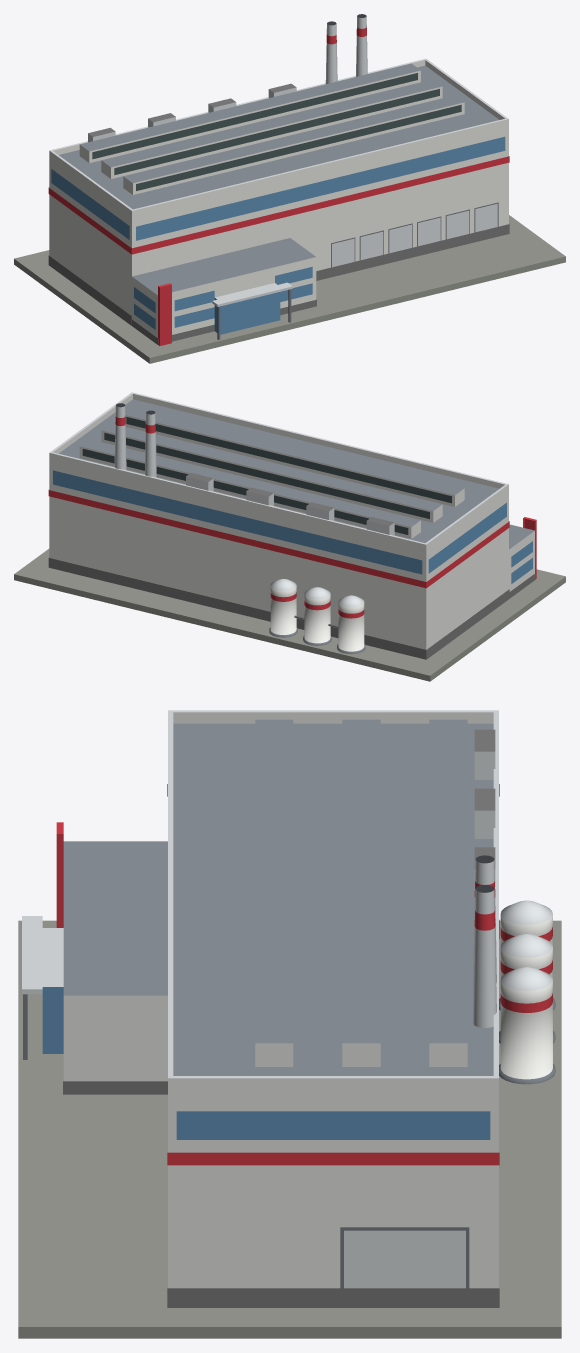
Rendered from mashup-main-top-prebuilt.fbx.
3 views of the same model, one above another, from view 1: azimuth 30°, elevation 25°; view 2: azimuth 150°, elevation 25°; view 3: azimuth 270°, elevation 25° (orthographic). The views are drawn at different scales.
Parts seen in each view (by area): view 1: a1029/0/mashup-main-top-prebuilt; view 2: a1029/0/mashup-main-top-prebuilt; view 3: a1029/0/mashup-main-top-prebuilt.
Part boxes in pixels (x1=…): a1029/0/mashup-main-top-prebuilt: x1=14, y1=14, x2=565, y2=363; a1029/0/mashup-main-top-prebuilt: x1=14, y1=392, x2=565, y2=681; a1029/0/mashup-main-top-prebuilt: x1=18, y1=710, x2=561, y2=1338.
Bounding box in the file's own units: 55.2 × 23.1 × 31.2.
